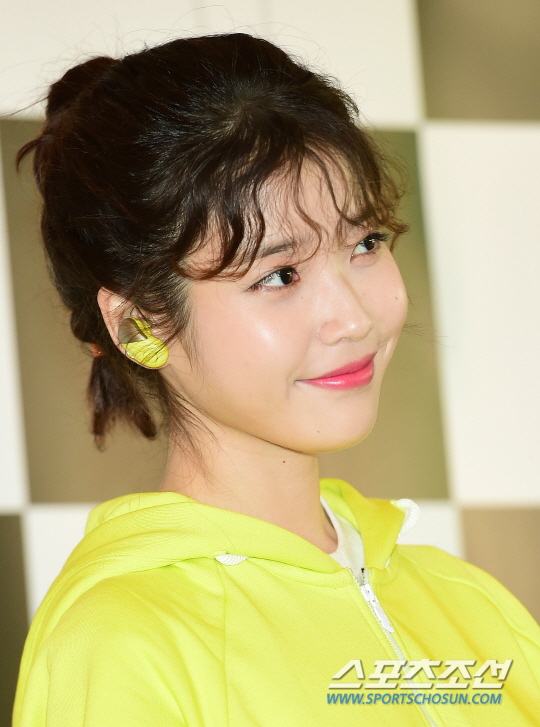earphone: (97, 285, 173, 370)
